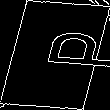P_W: (4, 33, 106, 77)
